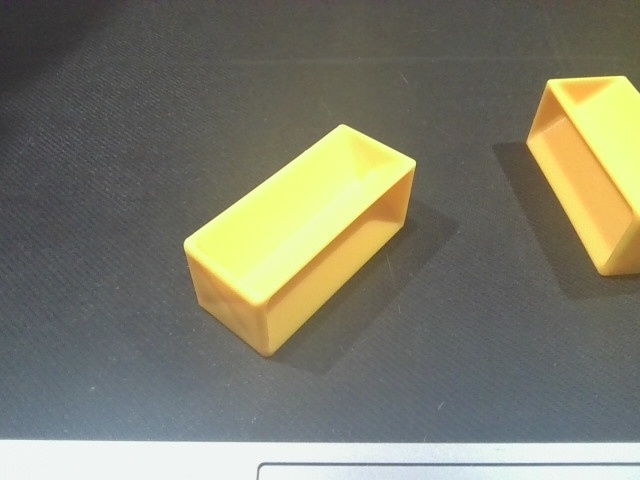YellowSample: (174, 121, 424, 361), (522, 70, 640, 281)
